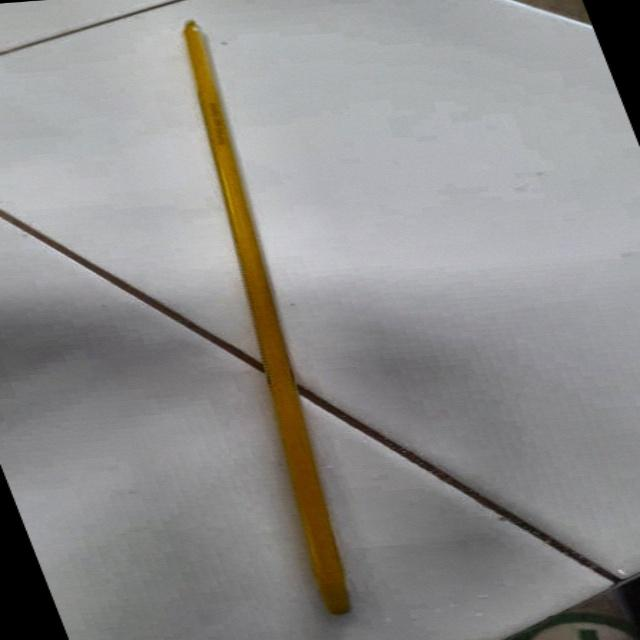Thermometer: (88, 17, 456, 620)
